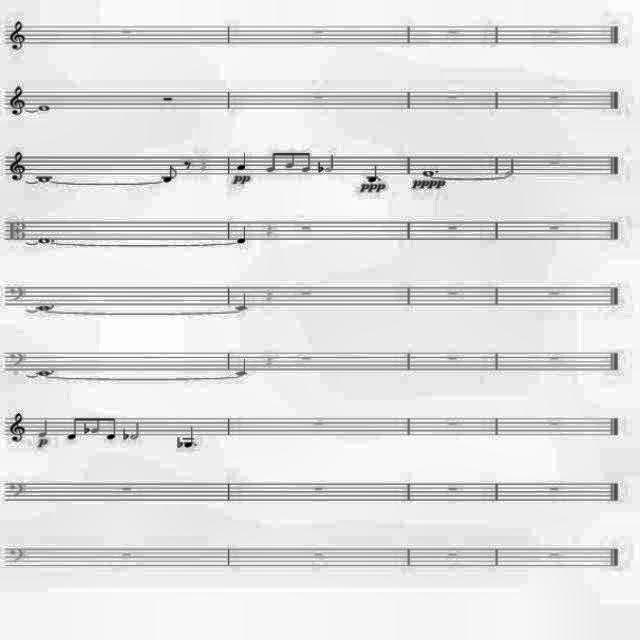Bemol: (78, 420, 92, 442)
Eighth-note: (154, 159, 178, 197), (63, 410, 77, 446), (92, 412, 106, 440), (107, 414, 119, 446)
Eighth-rest: (182, 154, 194, 182)
Full-note: (36, 96, 56, 124), (29, 168, 51, 192), (35, 361, 57, 379), (30, 304, 54, 320), (414, 168, 446, 180), (36, 233, 52, 253)
Quarter-note: (353, 160, 381, 182), (36, 412, 52, 441), (182, 426, 198, 454), (235, 148, 249, 172)
Treble-clef: (4, 16, 32, 54), (8, 144, 28, 188), (8, 404, 28, 446), (8, 83, 28, 121)
